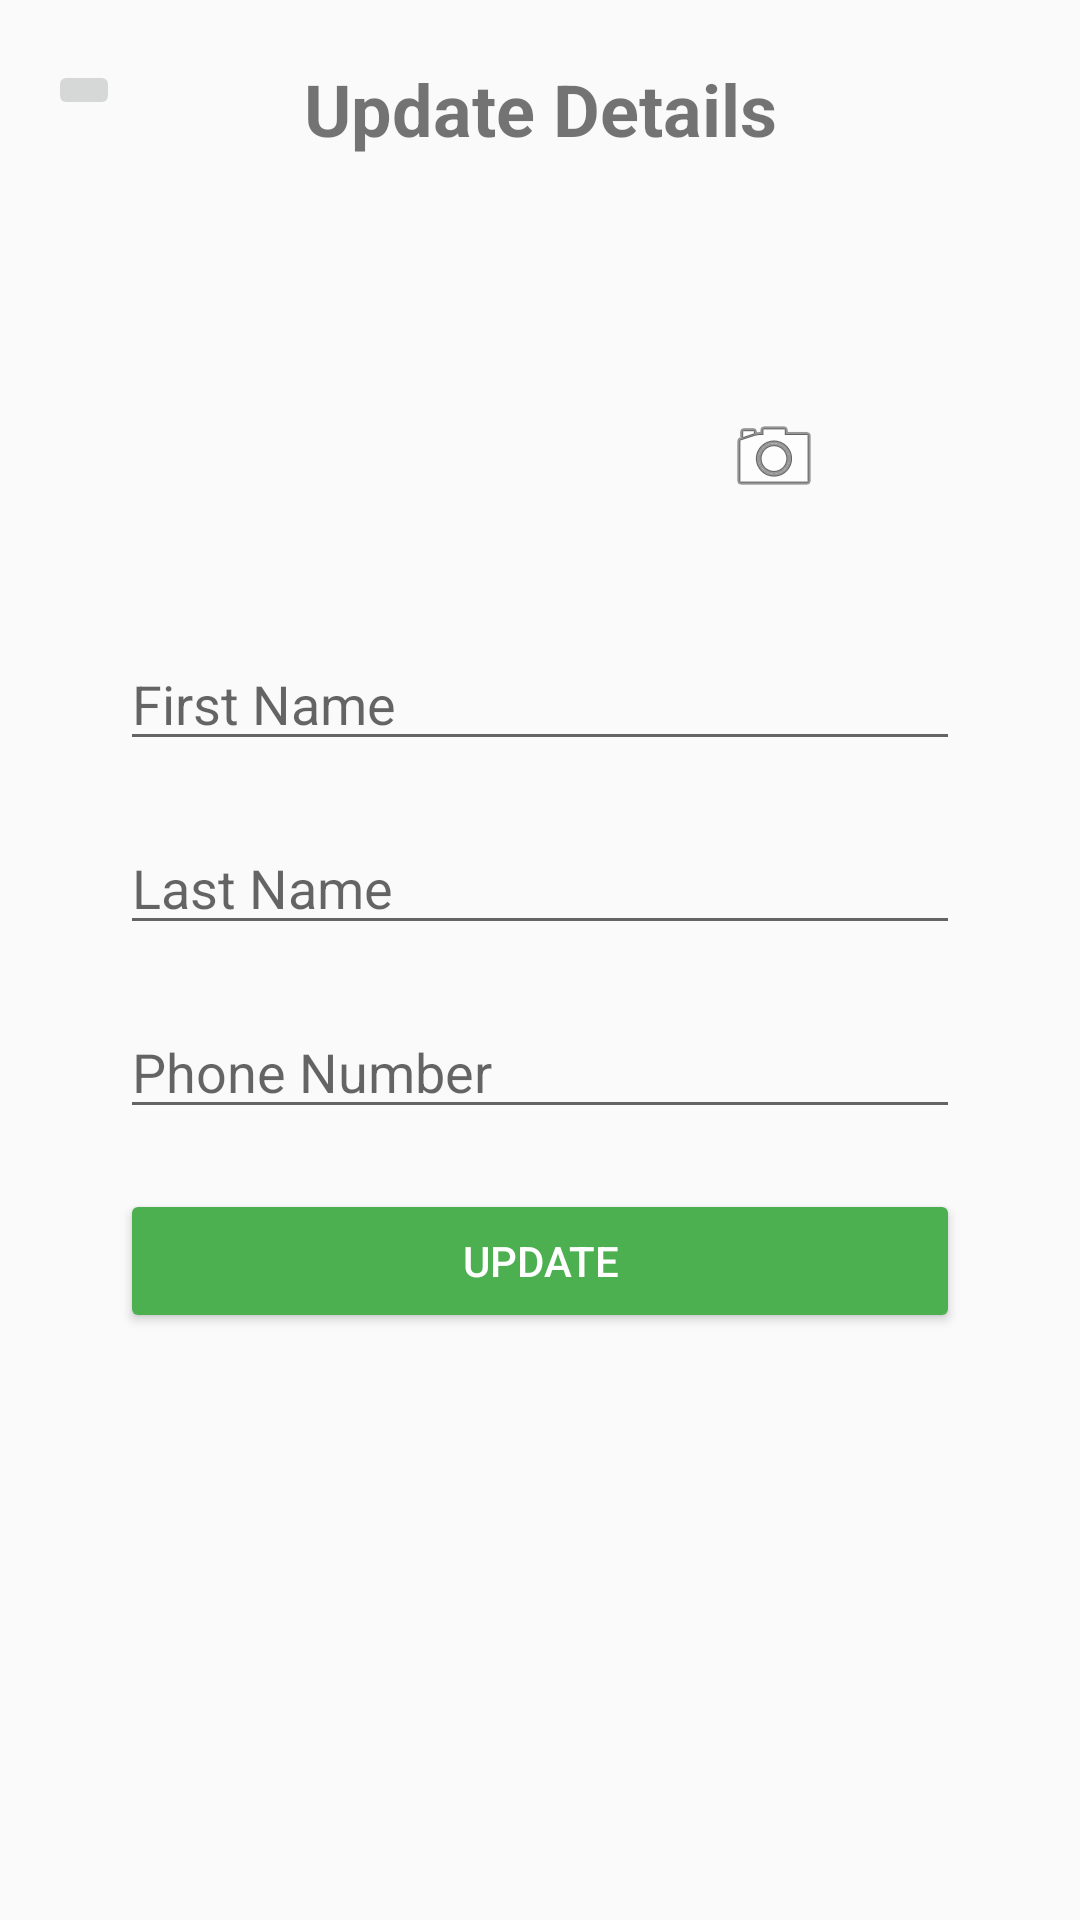

Screen size 1080w x 1920h. Icon name, then its box in pixels as (x1, y1, x2, y2):
camera: (737, 426, 811, 485)
